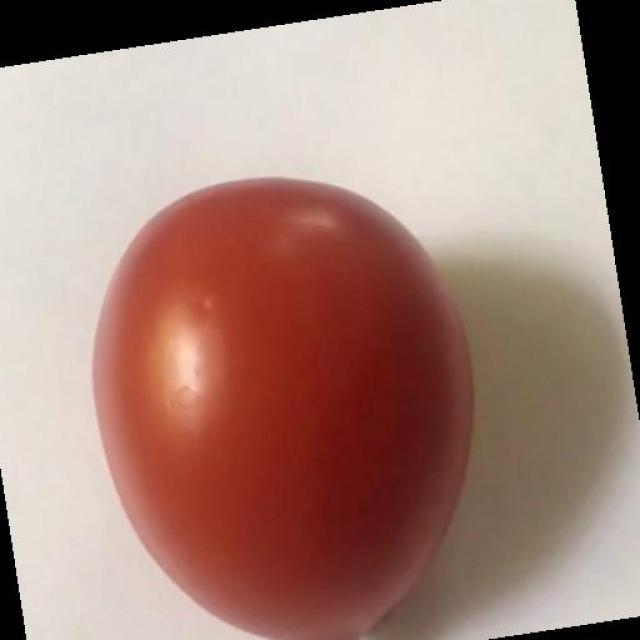Fresh Tomato: (69, 134, 506, 634)
